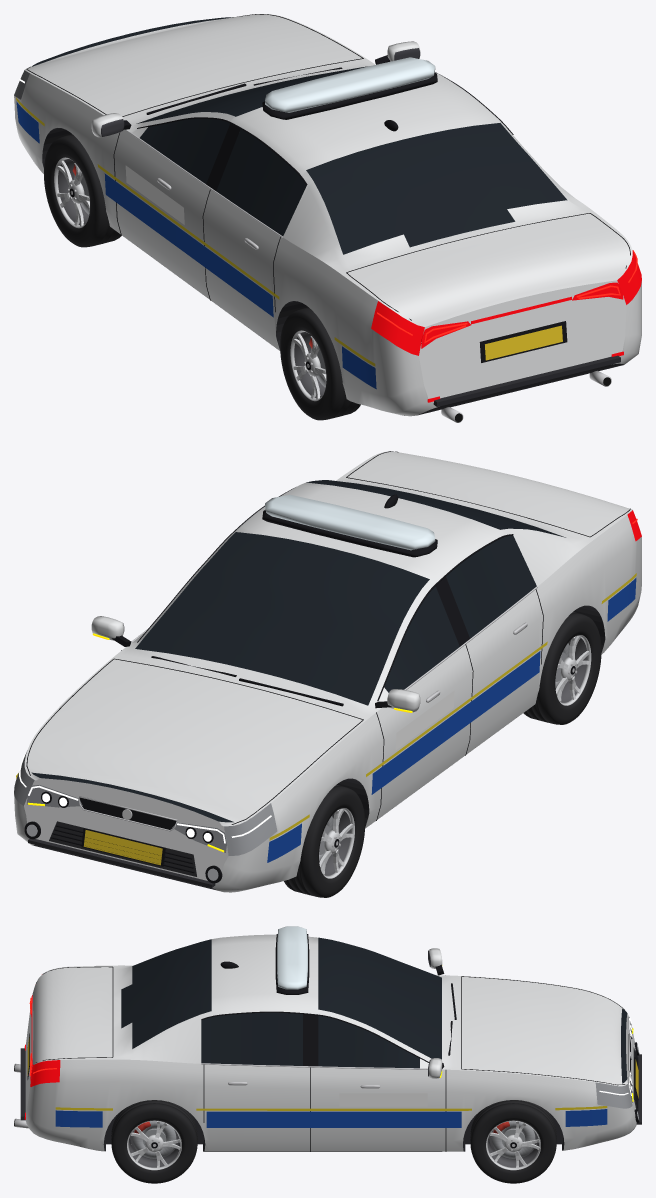
The model's file is policecar.glb.
3 views of the same model, one above another, from view 1: azimuth 30°, elevation 25°; view 2: azimuth 150°, elevation 25°; view 3: azimuth 270°, elevation 25° (orthographic). The views are drawn at different scales.
Parts seen in each view (by area): view 1: body.002, trim.002, decals.002, wheel_rr.002, wheel_fr.002; view 2: body.002, trim.002, decals.002, wheel_fr.002, wheel_rr.002; view 3: body.002, decals.002, trim.002, wheel_fl.002, wheel_rl.002.
Boxes of the visible parts, box(x1,y1,x2,y2) form: body.002: box(14, 14, 641, 416); trim.002: box(19, 14, 637, 422); decals.002: box(16, 97, 562, 389); wheel_rr.002: box(280, 307, 360, 420); wheel_fr.002: box(44, 134, 121, 247); body.002: box(14, 451, 641, 892); trim.002: box(19, 451, 637, 887); decals.002: box(16, 573, 636, 865); wheel_fr.002: box(284, 785, 365, 897); wheel_rr.002: box(523, 612, 601, 724); body.002: box(25, 934, 636, 1151); decals.002: box(27, 1037, 638, 1127); trim.002: box(14, 926, 641, 1151); wheel_fl.002: box(470, 1100, 556, 1183); wheel_rl.002: box(111, 1100, 197, 1183).
Size of the model in its own units: 2.19 by 1.54 by 4.83.
